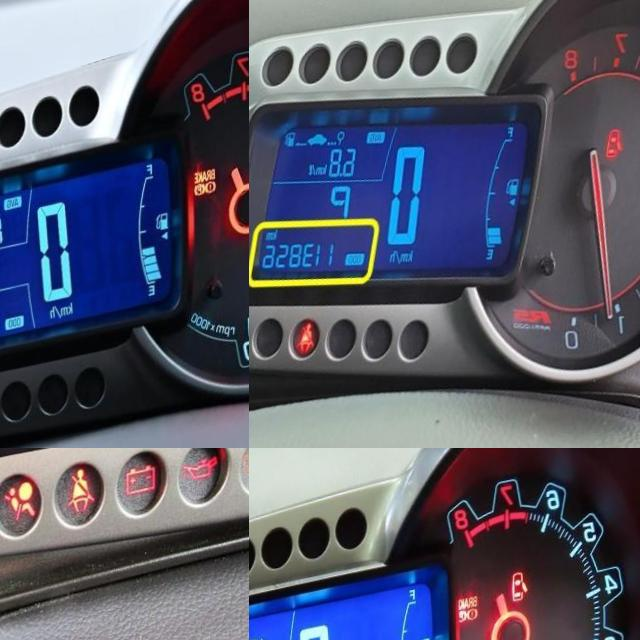Doors: (606, 143, 625, 178), (512, 588, 529, 622)
